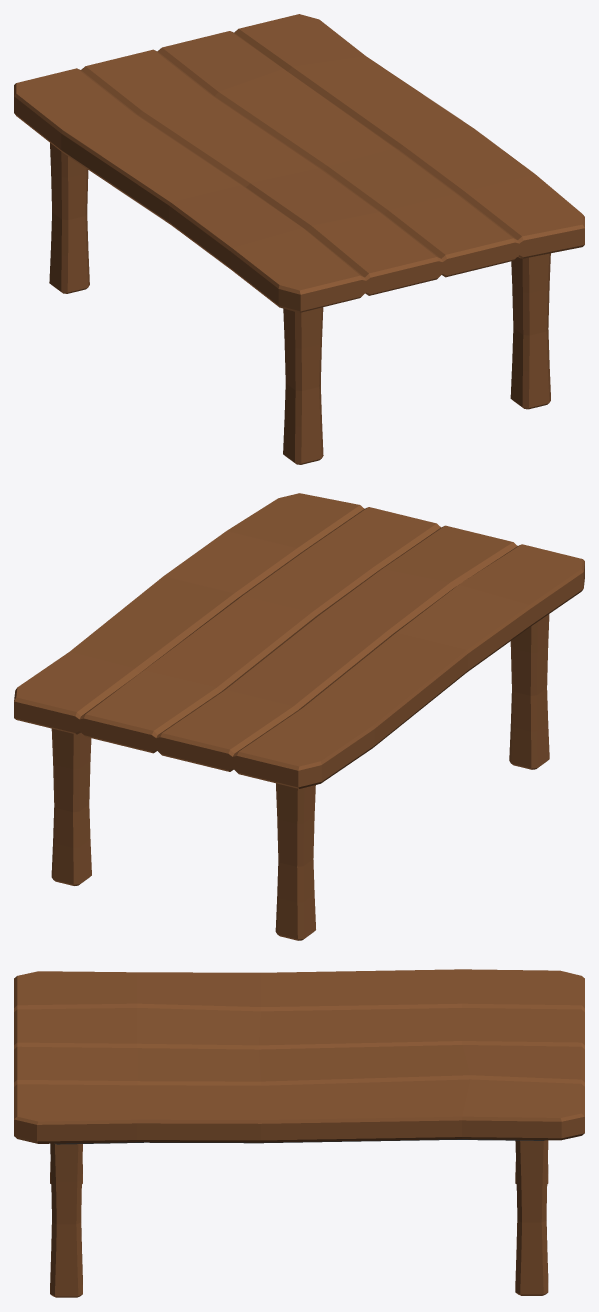
Rendered from table.fbx.
The picture shows the model from 3 angles, top to bottom: view 1: azimuth 30°, elevation 25°; view 2: azimuth 150°, elevation 25°; view 3: azimuth 270°, elevation 25°; orthographic projection.
Parts seen in each view (by area): view 1: Plane; view 2: Plane; view 3: Plane.
Boxes of the visible parts, bbox=[...] form: Plane: bbox=[14, 14, 584, 464]; Plane: bbox=[14, 493, 584, 940]; Plane: bbox=[14, 969, 584, 1297].
Size of the model in its own units: 219 by 131 by 347.
